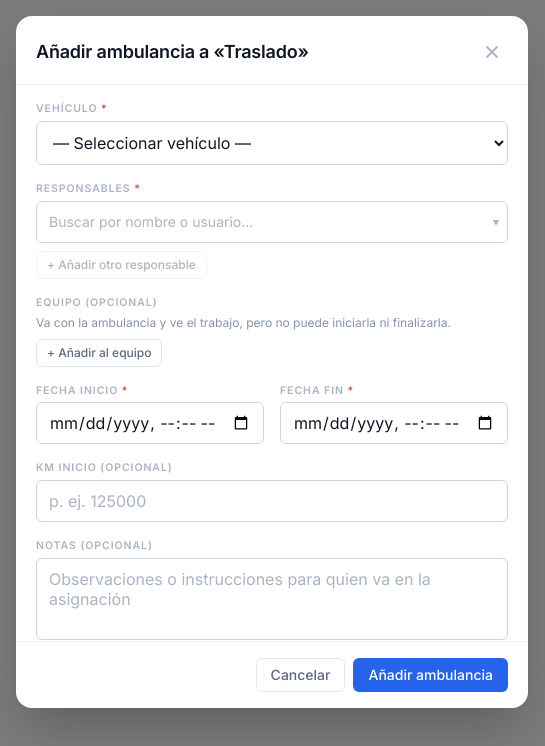
Test: AsignacionForm · hora de inicio y vuelta a programada › al dar de alta con el inicio ya pasado avisa de que se activará sola
In the field below "Fecha inicio": (150, 423) x1=36 y1=402 x2=264 y2=444, type "2020-01-01T10:00"
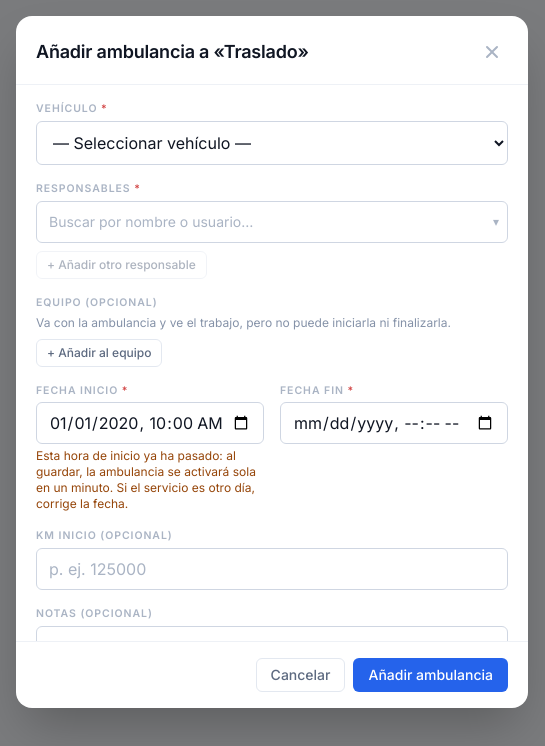
expect the text with test id "aviso-inicio-pasado" shows "se activará sola en un minuto": met, box x1=36 y1=448 x2=256 y2=511
Replace the text in the field below "Fecha inicio" with "2099-01-01T10:00": (150, 423) x1=36 y1=402 x2=264 y2=444
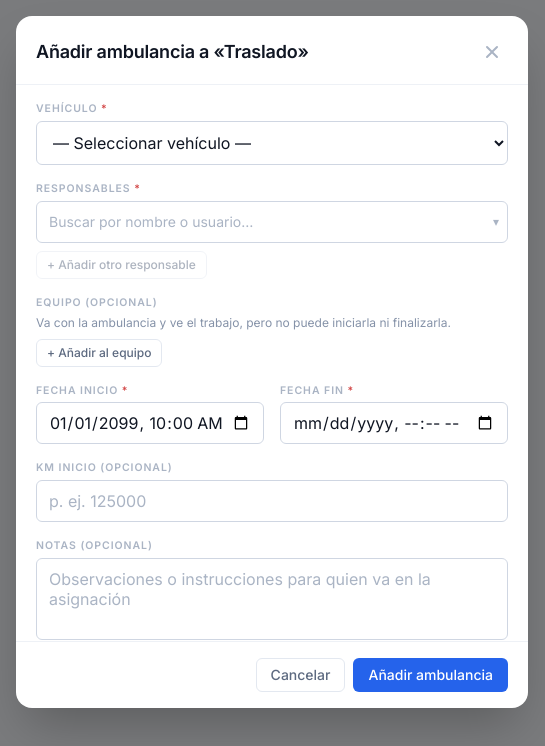
expect the text with test id "aviso-inicio-pasado" is gone: met
